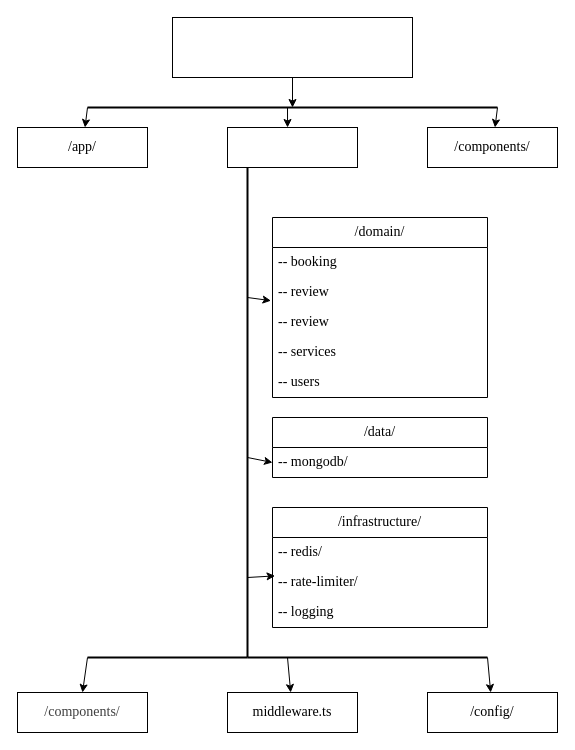
The diagram is 575 pixels wide and 750 high, and some of its shapes have lost their labels. Here are the shapes that lost their labels. From the top down, the centre of each, then its label:
At point 292,47: "CaterConnect Project".
At point 292,147: "/lib/".
